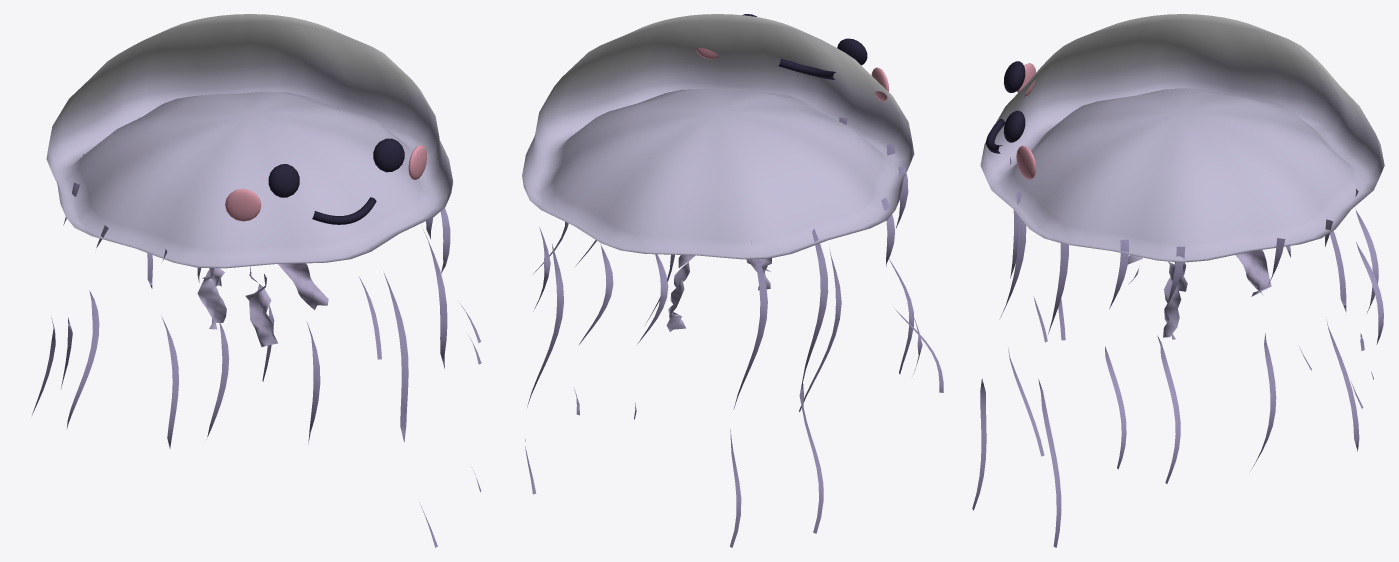
Rendered from jelly-a.glb.
3 renders of one model, left to right at view 1: azimuth 30°, elevation 25°; view 2: azimuth 150°, elevation 25°; view 3: azimuth 270°, elevation 25°, orthographic. The views are drawn at different scales.
Parts seen in each view (by area): view 1: Jelly_a; view 2: Jelly_a; view 3: Jelly_a.
Part boxes in pixels (x1=…): Jelly_a: x1=32, y1=14, x2=481, y2=547; Jelly_a: x1=522, y1=14, x2=943, y2=547; Jelly_a: x1=972, y1=14, x2=1384, y2=547.
Bounding box in the file's own units: 2.48 × 2.43 × 2.11.
